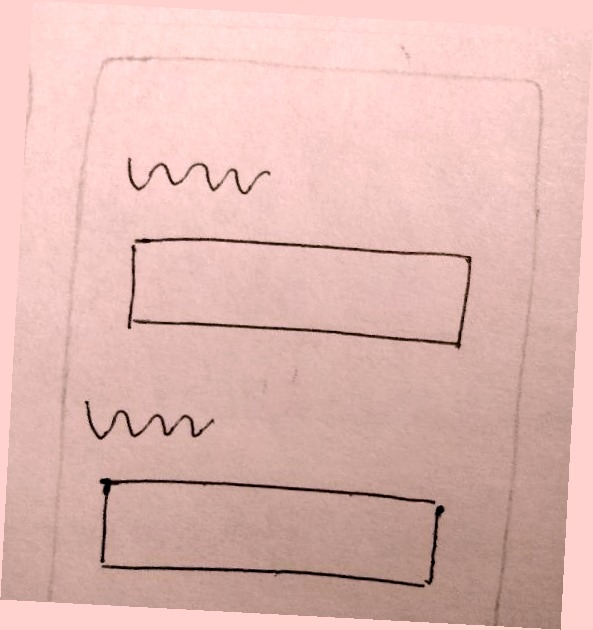text: (117, 141, 280, 208), (77, 390, 221, 452)
text_input: (88, 464, 450, 598), (119, 227, 479, 361)
